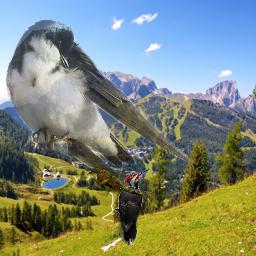Cuckoo: (87, 167, 145, 197)
Swallow: (2, 17, 198, 181)
Woodpecker: (111, 168, 151, 246)
